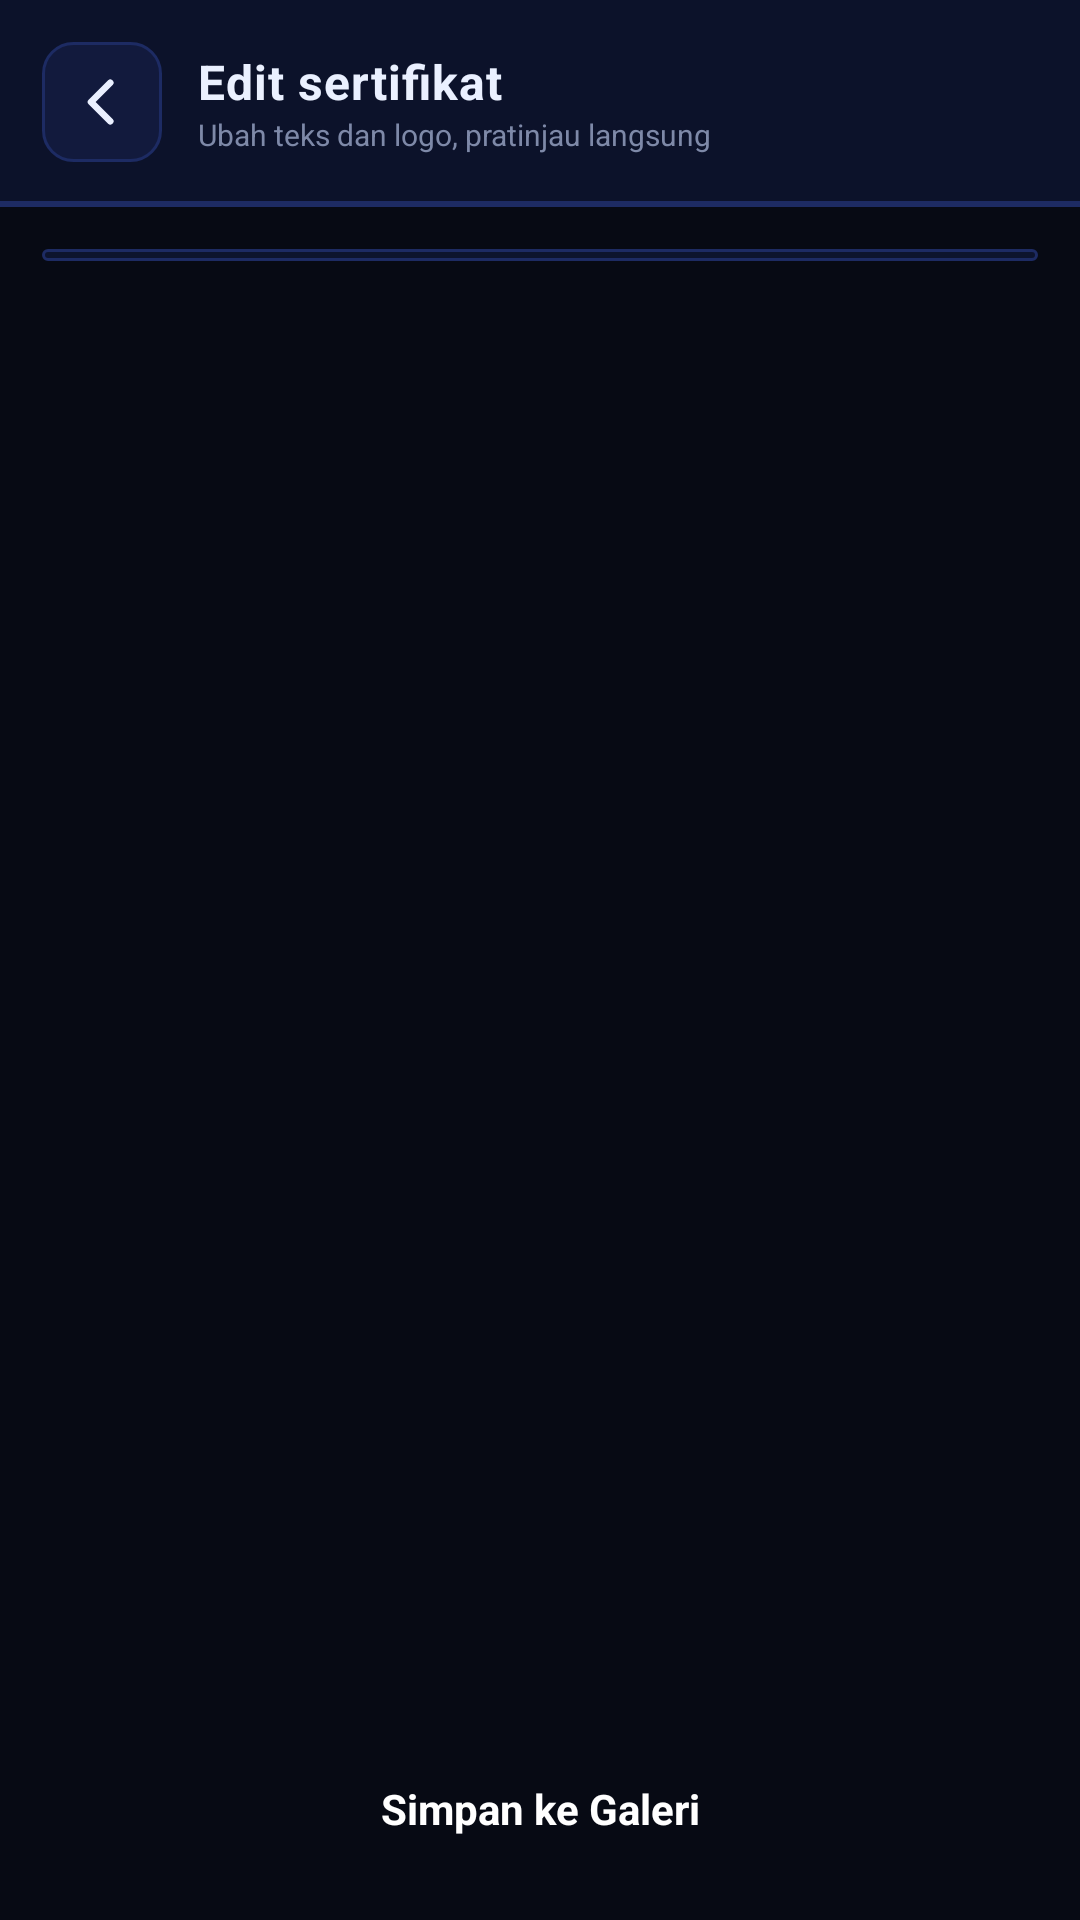

Point at icon controls on the screen. Image size 1080 x 1920, points as point (x, y).
Kembali: point (102, 102)
